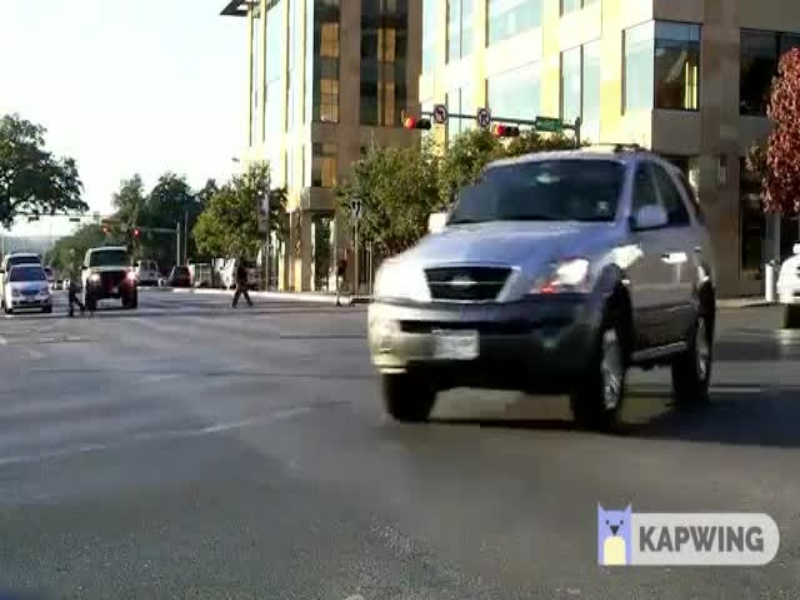car: (354, 145, 719, 457), (82, 239, 146, 314), (1, 262, 54, 314)
